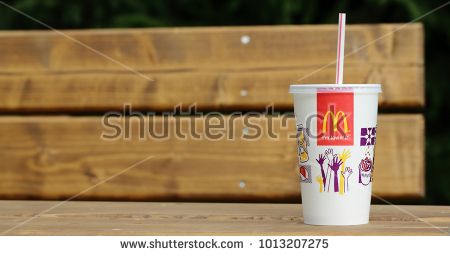mcdonalds: (322, 109, 347, 131)
